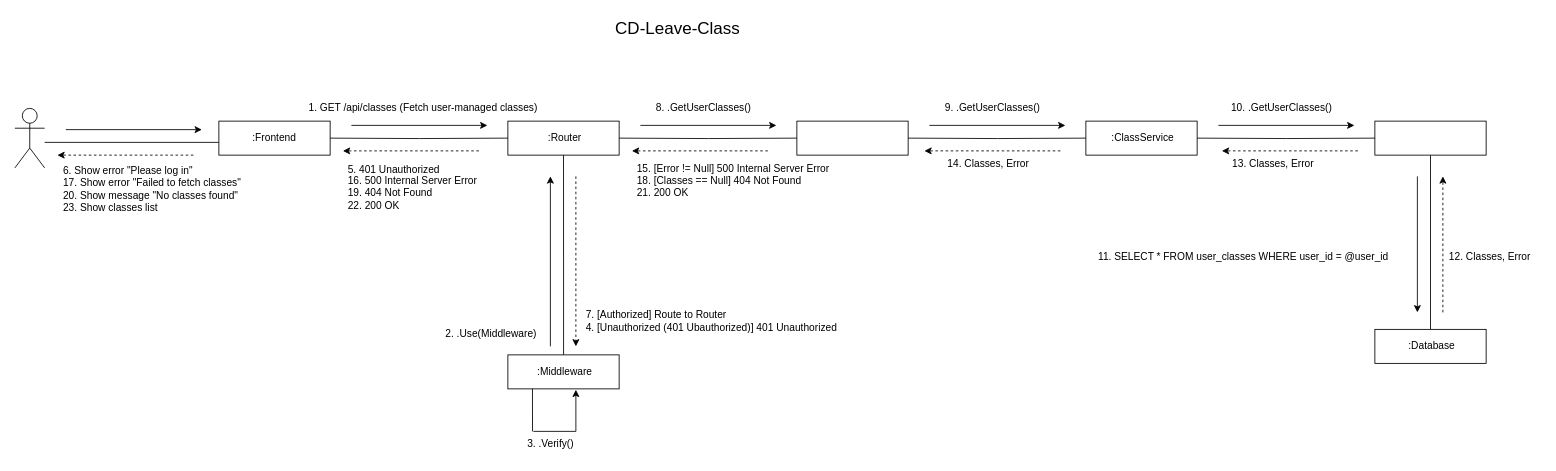
The diagram is 1556 pixels wide and 471 high, and some of its shapes have lost their labels. The box of each missing label's shape, as (x1, y1, x2, y2) in pixels:
:ClassController: (796, 120, 908, 155)
:ClassRepository: (1374, 120, 1486, 155)
User: (14, 108, 45, 168)
